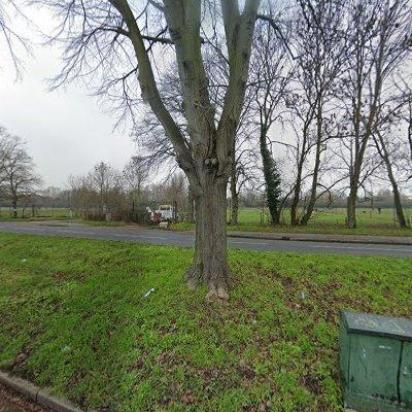stationary-heavy-truck-offstreet: (152, 202, 174, 220)
